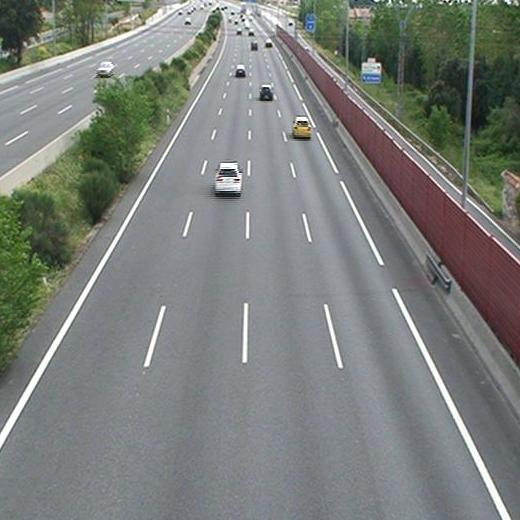car: (214, 164, 242, 192), (293, 119, 311, 138), (260, 85, 273, 100), (235, 66, 245, 76), (251, 42, 258, 51)
